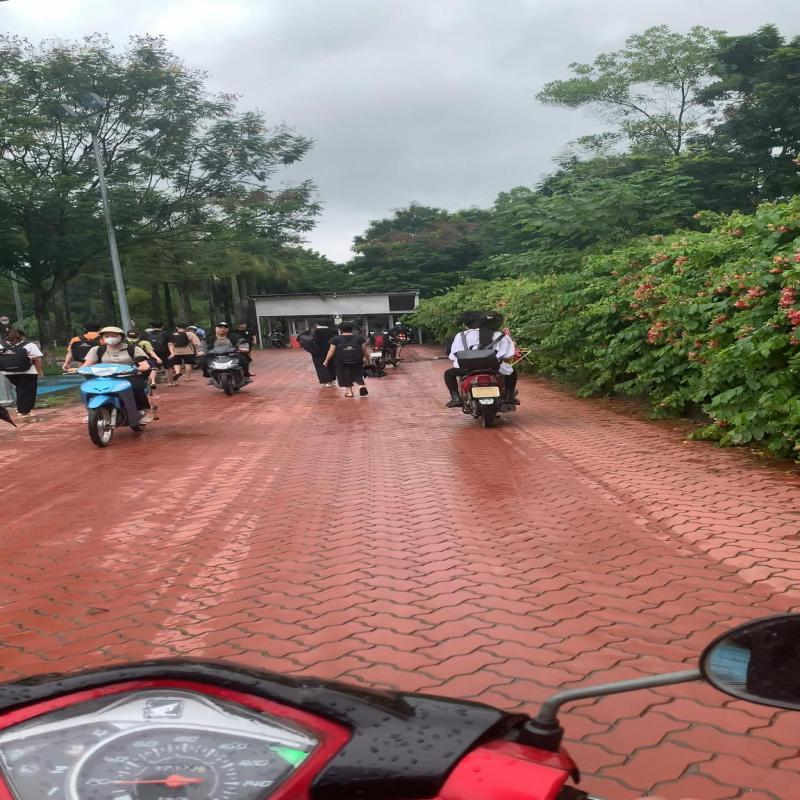motorcyclist: (430, 308, 532, 428)
nohelmet: (476, 311, 507, 330), (469, 385, 503, 399), (458, 310, 482, 328)
